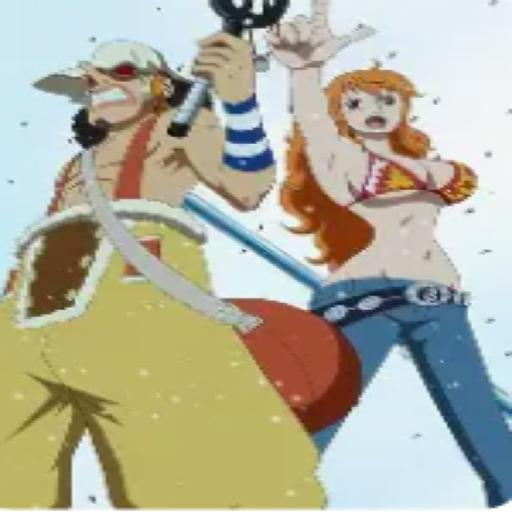Nami: (243, 0, 512, 512)
Usopp: (0, 0, 325, 511)
